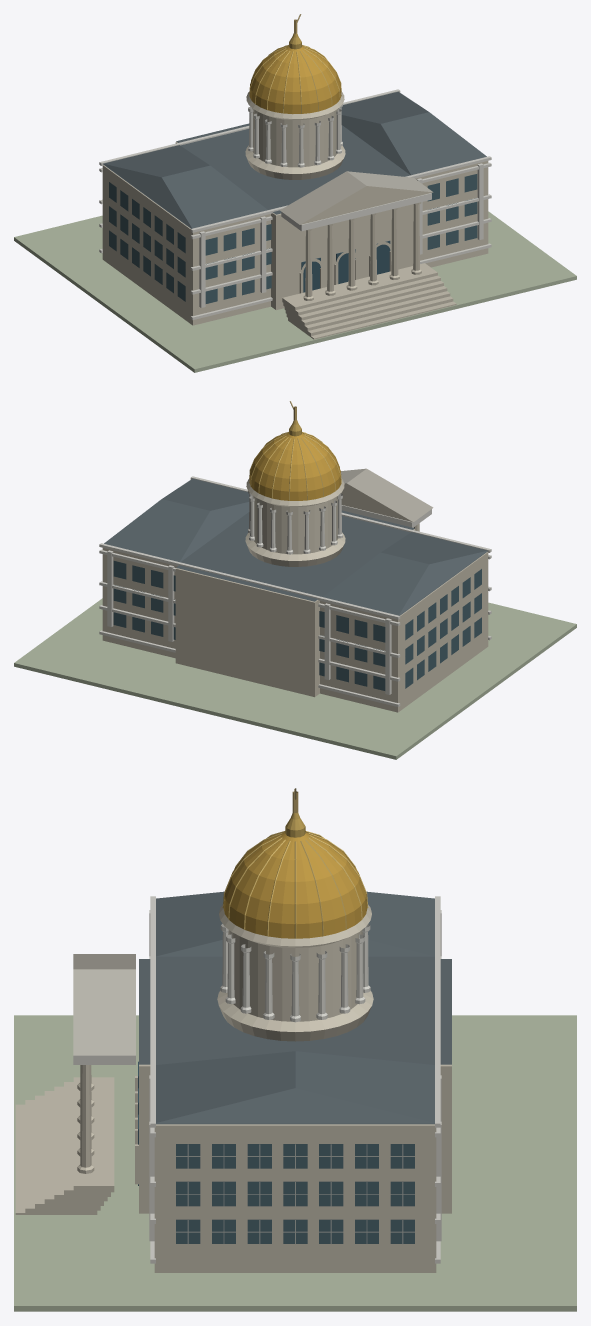
File: capitol.glb
The picture shows the model from 3 angles, top to bottom: view 1: azimuth 30°, elevation 25°; view 2: azimuth 150°, elevation 25°; view 3: azimuth 270°, elevation 25°; orthographic projection. The views are drawn at different scales.
Visible parts, largest first — view 1: capitol-stone-gold; view 2: capitol-stone-gold; view 3: capitol-stone-gold.
Part boxes in pixels (x1=…): capitol-stone-gold: x1=14, y1=14, x2=576, y2=372; capitol-stone-gold: x1=14, y1=401, x2=576, y2=759; capitol-stone-gold: x1=14, y1=788, x2=576, y2=1311.
Bounding box in the file's own units: 22 × 13.47 × 18.
